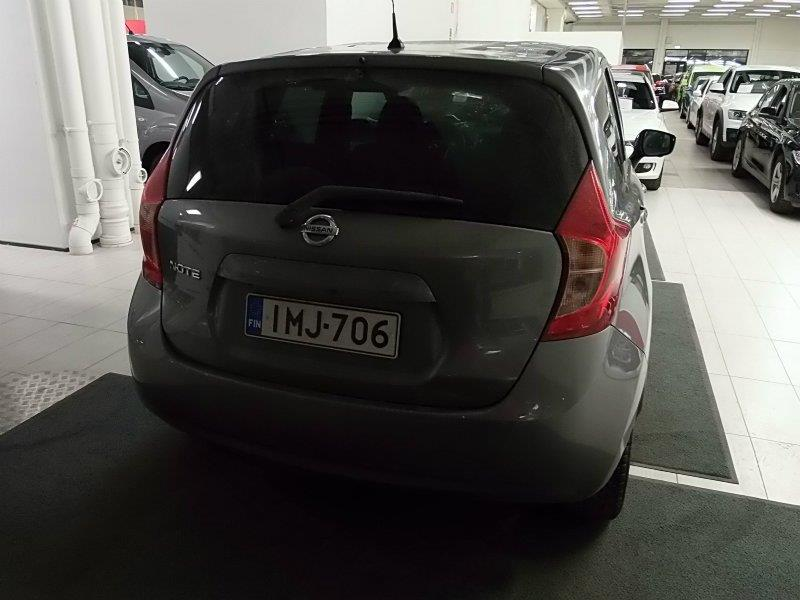license: (247, 291, 395, 361)
